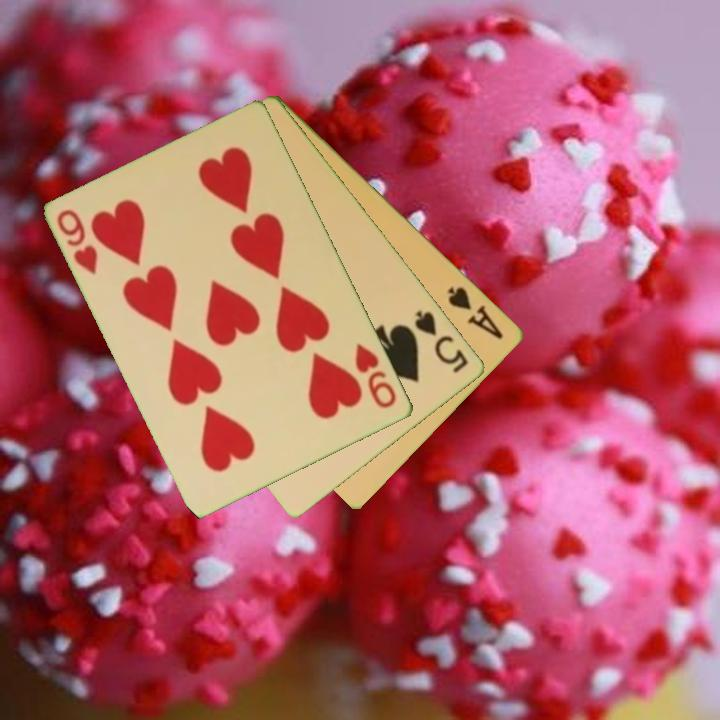5s: (411, 306, 472, 377)
9h: (53, 206, 102, 278), (352, 340, 400, 411)
As: (444, 282, 507, 343)
